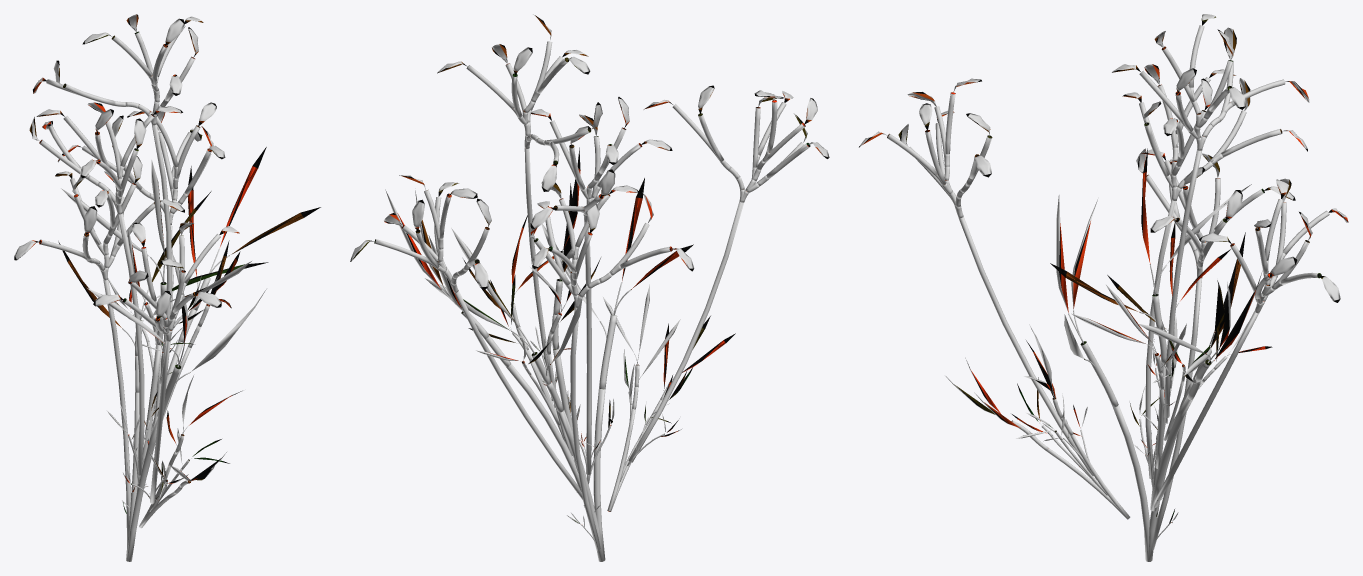
3 views of the same model, side by side, from view 1: azimuth 30°, elevation 25°; view 2: azimuth 150°, elevation 25°; view 3: azimuth 270°, elevation 25° (orthographic). The views are drawn at different scales.
Size of the model in its own units: 0.5987 by 0.95 by 0.7534.
